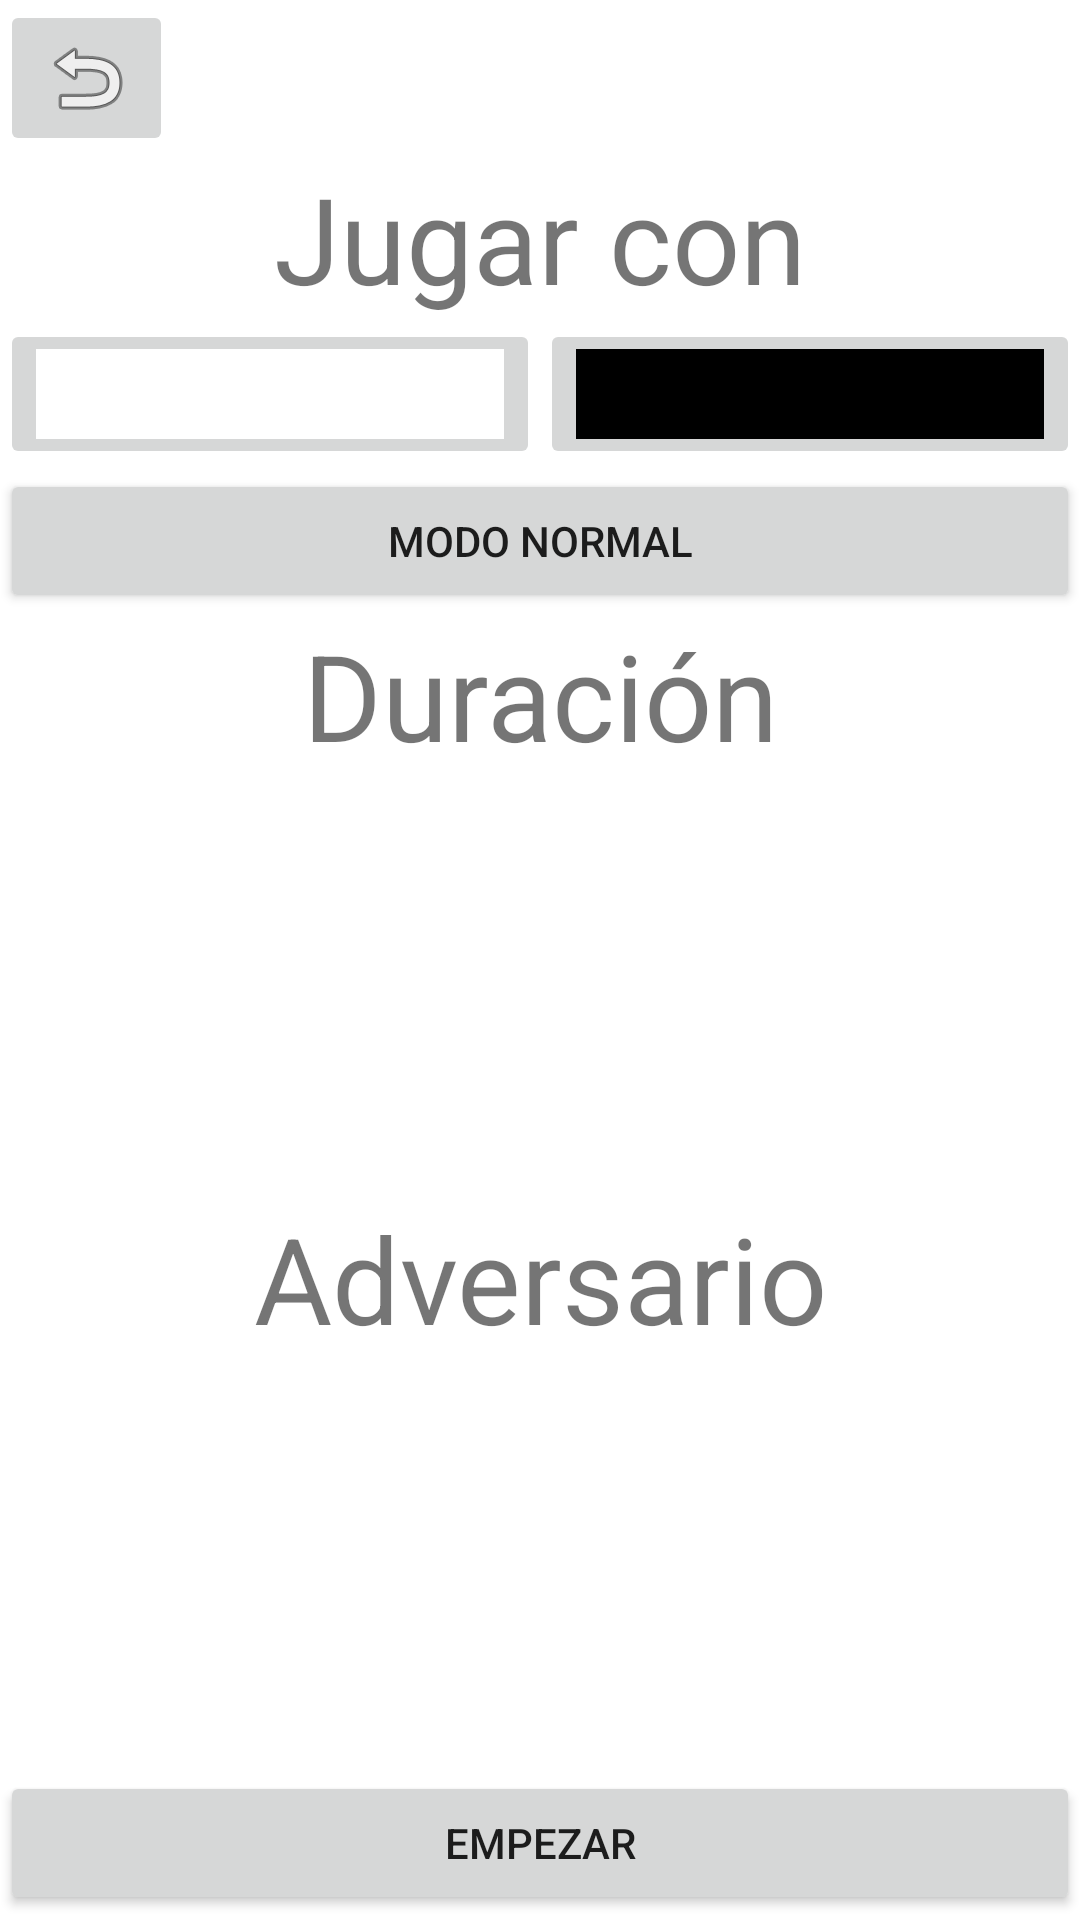

Icon click points for this 1080×1920 phone screenshot, format (x,y):
revert: (86,78)
